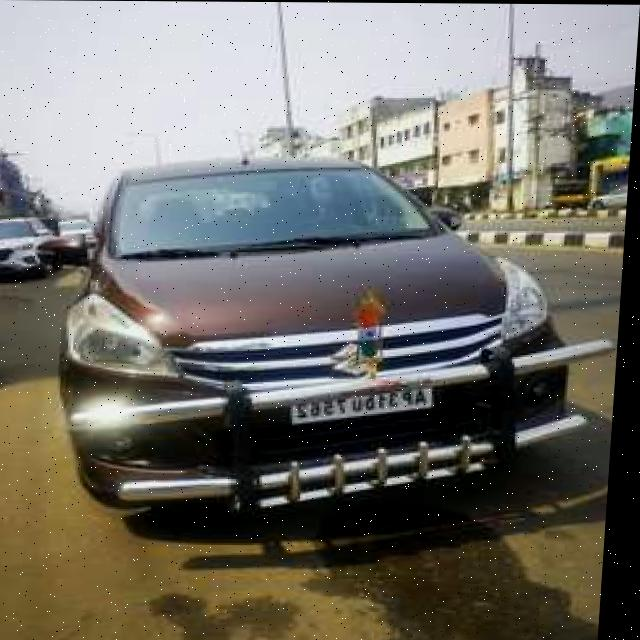plate: (297, 386, 440, 423)
